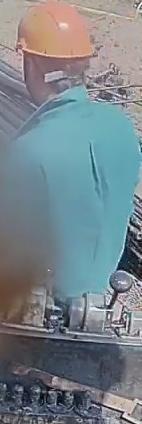helmet: (14, 0, 94, 66)
vest: (11, 86, 141, 302)
